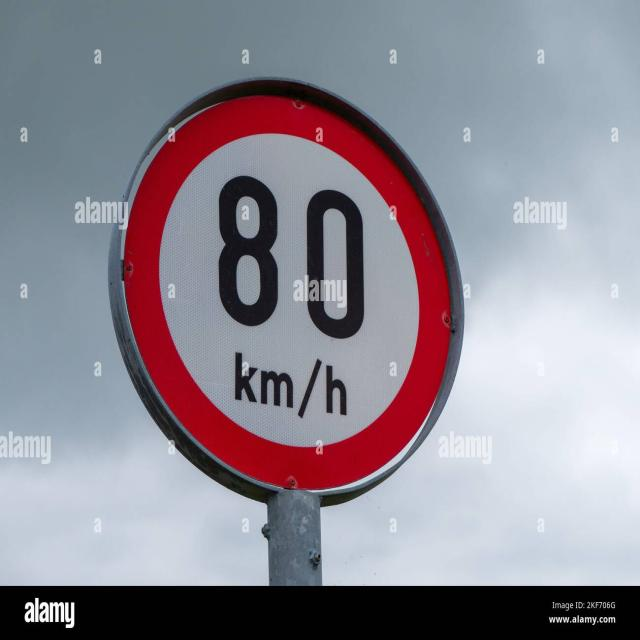speed_80: (126, 86, 452, 491)
